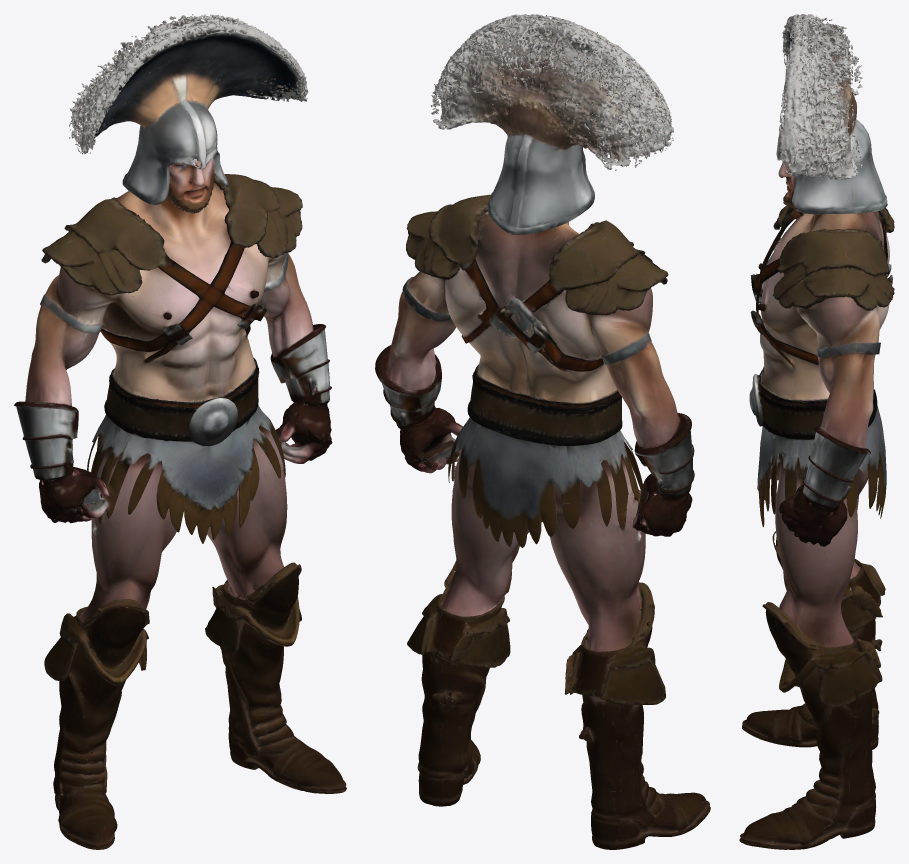
Rendered from guerrier-maillage.glb.
The picture shows the model from 3 angles, left to right: view 1: azimuth 30°, elevation 25°; view 2: azimuth 150°, elevation 25°; view 3: azimuth 270°, elevation 25°; orthographic projection. The views are drawn at different scales.
Parts seen in each view (by area): view 1: geometry_0; view 2: geometry_0; view 3: geometry_0.
Part boxes in pixels (x1,y1,x2,y2): geometry_0: [14, 14, 346, 849]; geometry_0: [375, 14, 710, 849]; geometry_0: [739, 14, 894, 849].
Size of the model in its own units: 0.3729 by 0.9069 by 0.1674.
1 material, 1 textured.
